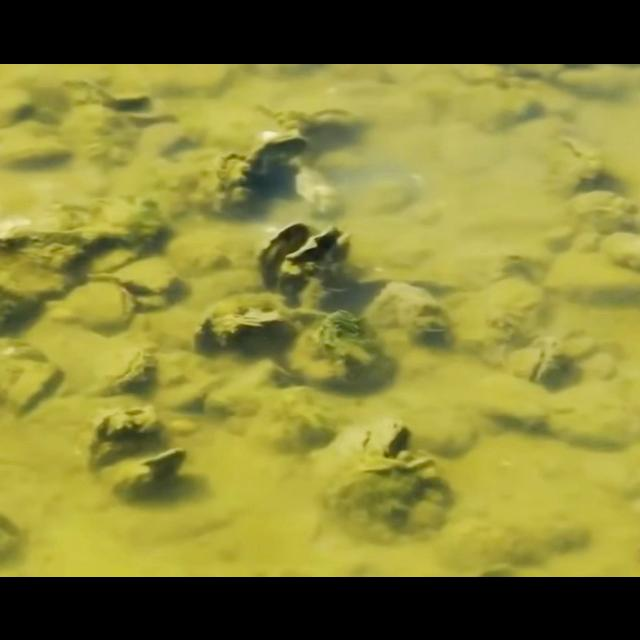Oyster-Closed: (326, 454, 454, 534), (286, 306, 388, 392), (194, 293, 300, 362), (364, 280, 450, 344), (86, 404, 164, 470), (0, 238, 80, 297), (58, 278, 134, 334), (508, 334, 568, 390), (99, 342, 160, 396), (210, 150, 260, 213)
Oyster-Open: (313, 416, 411, 478), (280, 224, 354, 300), (98, 256, 188, 308), (112, 446, 188, 504), (260, 220, 312, 296), (250, 132, 310, 196)
